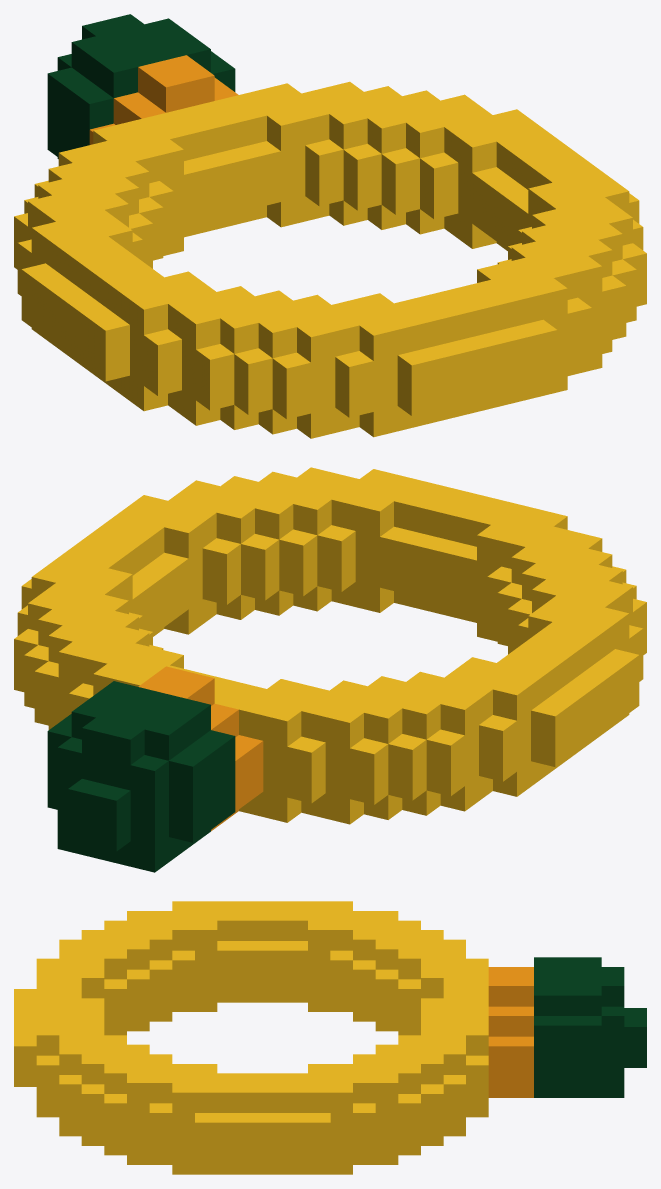
The model's file is item_RING_ONYX.glb.
3 views of the same model, one above another, from view 1: azimuth 30°, elevation 25°; view 2: azimuth 150°, elevation 25°; view 3: azimuth 270°, elevation 25° (orthographic). The views are drawn at different scales.
Parts seen in each view (by area): view 1: item_RING_ONYX; view 2: item_RING_ONYX; view 3: item_RING_ONYX.
Boxes of the visible parts, box(x1,y1,x2,y2) form: item_RING_ONYX: box(14, 14, 646, 438); item_RING_ONYX: box(14, 467, 646, 872); item_RING_ONYX: box(14, 901, 646, 1174).
Size of the model in its own units: 0.25 by 0.0568 by 0.3182.
1 material, 1 textured.
